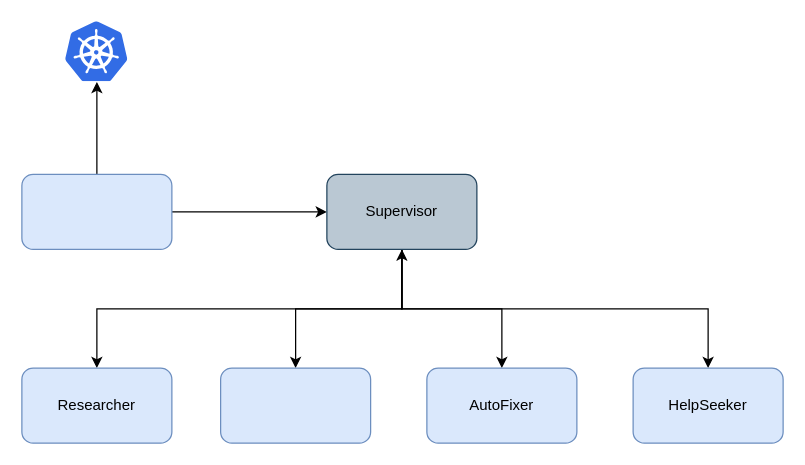
This 805x465 diagram has some shape labels left out. The shapes that lost their labels are listed below. From the top down, each one's box as (x1, y1, x2, y2) in pixels, then its label:
(21, 173, 172, 249): Event Scraper
(219, 367, 371, 443): Coder
